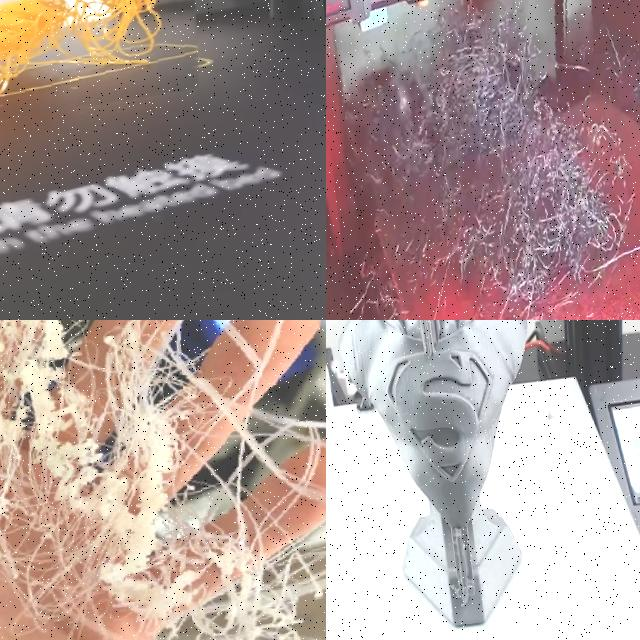spaghetti: (0, 320, 326, 640), (326, 0, 640, 320), (0, 0, 211, 147)
